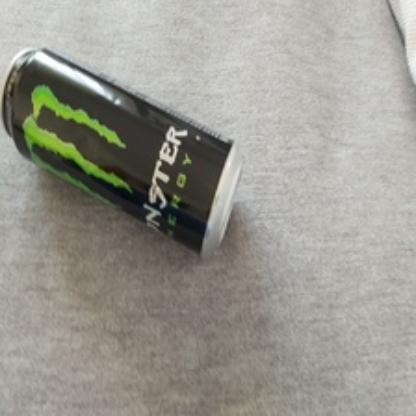Can: (0, 44, 244, 260)
